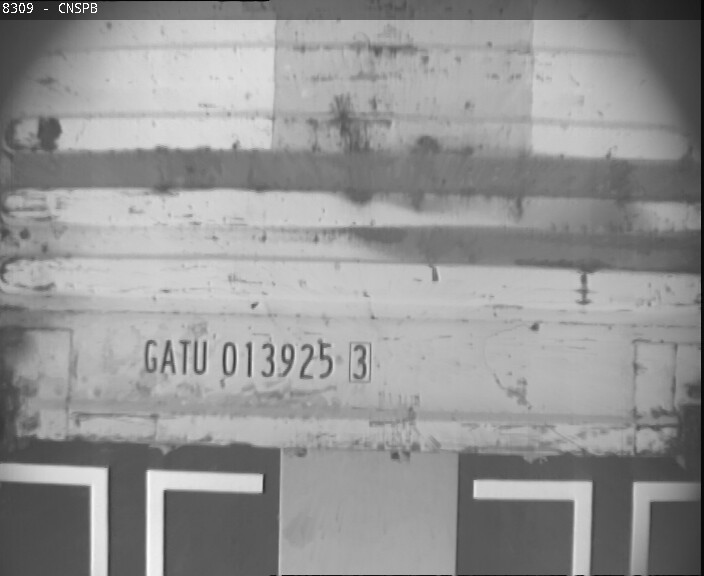groundmarker_1: (1, 461, 261, 576), (473, 478, 704, 576)
